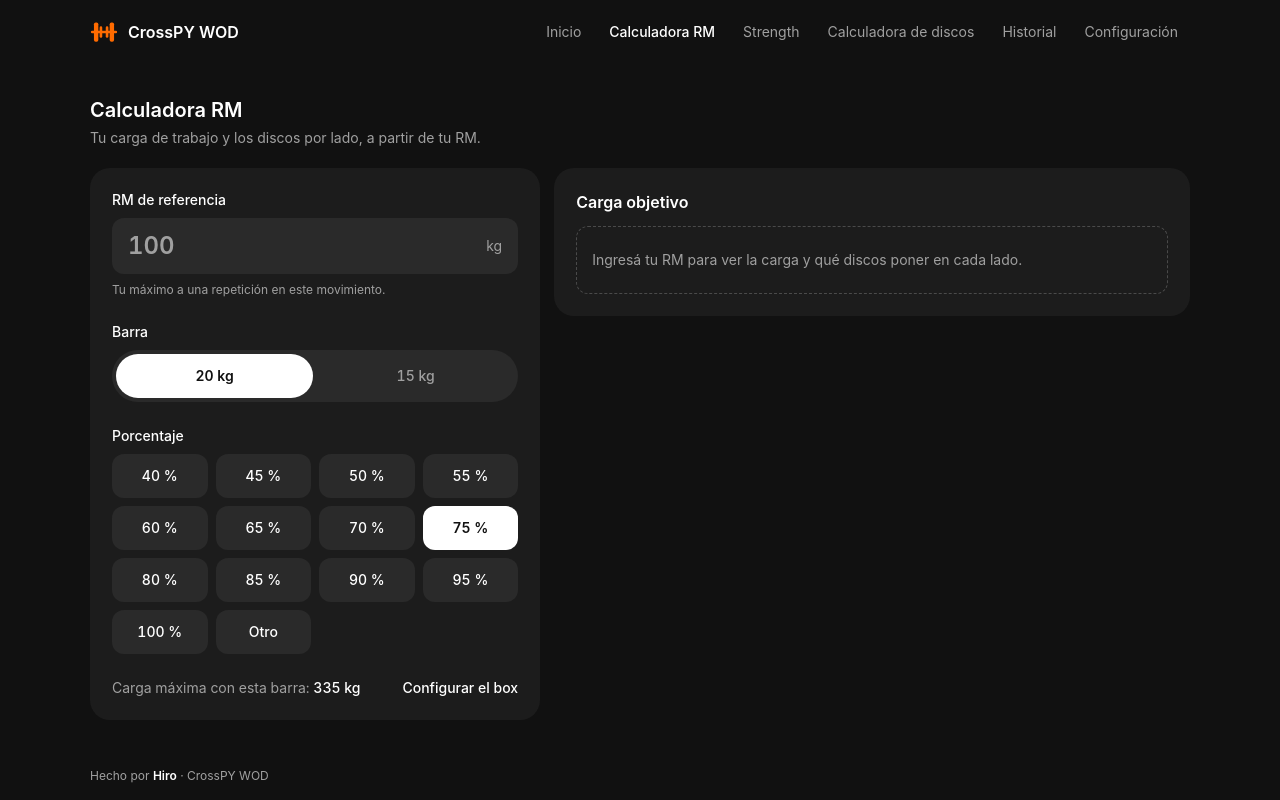
Test: Calculadora RM › avisa cuando la carga queda por debajo de la barra
Type "30" into the field labelled "RM de referencia" at coordinates (303, 246), box [128,232,478,260]
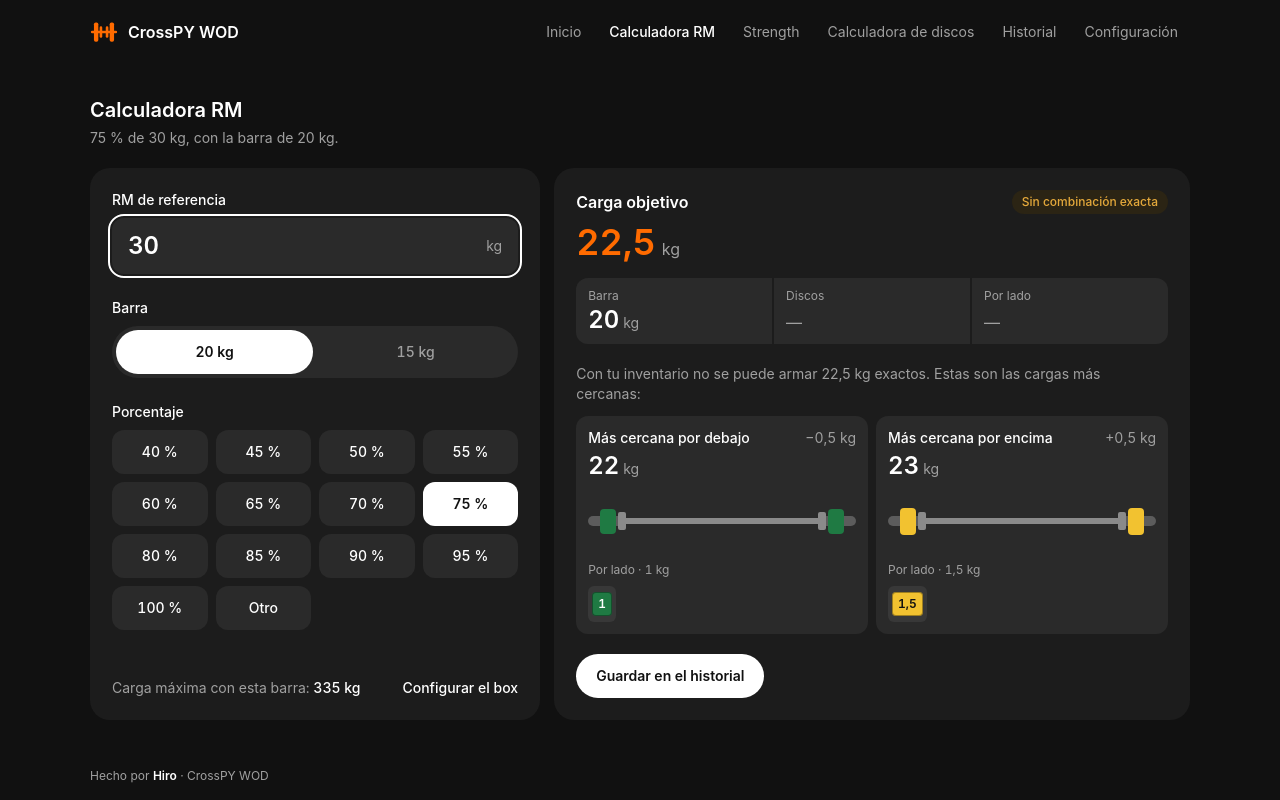
Click the radio button labelled "50 %" at coordinates (367, 452), box [319,430,415,474]
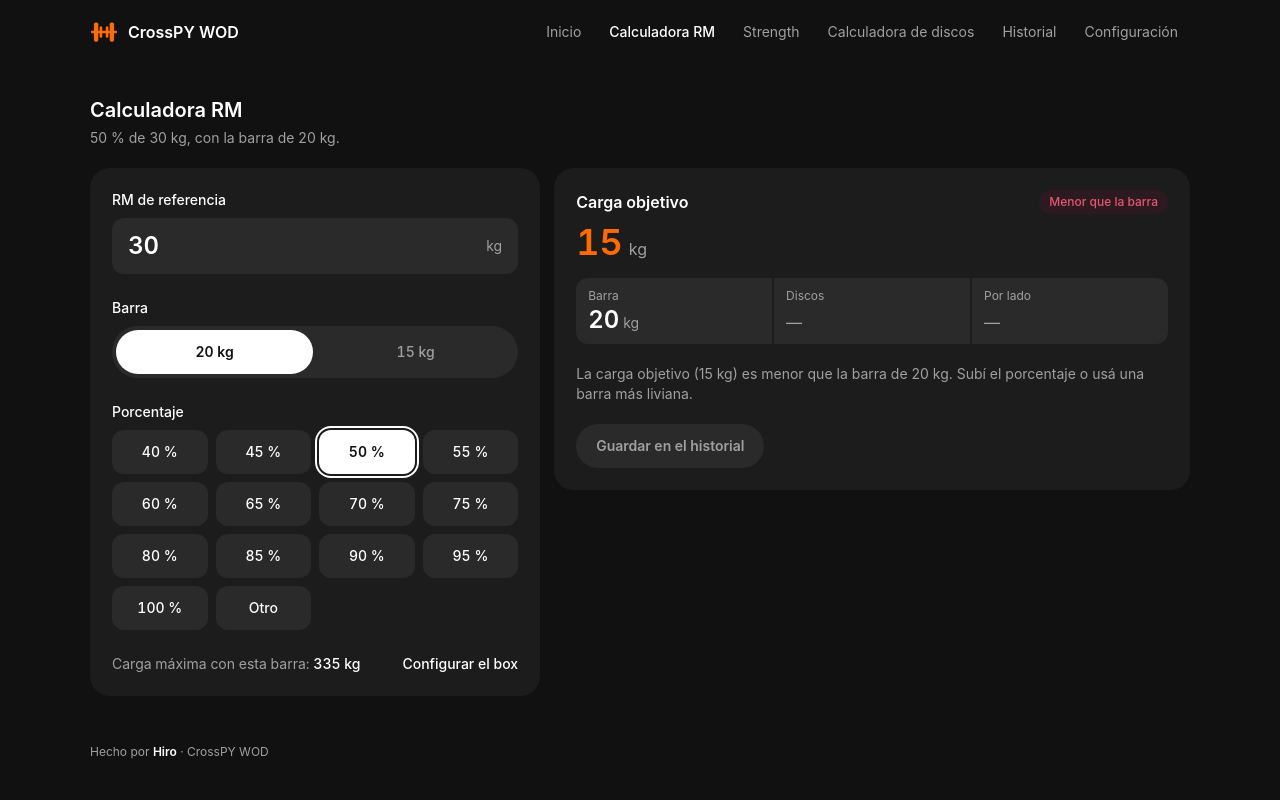
Now the text "Menor que la barra" is shown, box [1039,190,1168,214]
Now the button "Guardar en el historial" is disabled, box [576,424,764,468]
